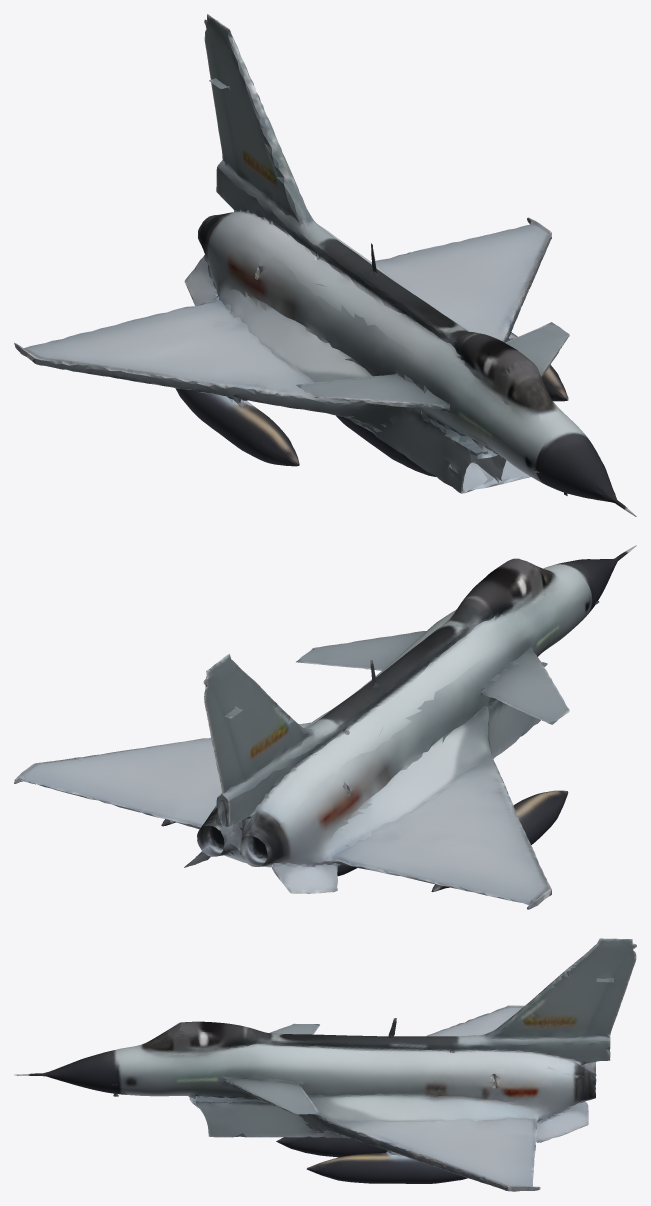
Rendered from J-10C_Vigorous_Dragon_AI_Rodin.glb.
3 renders of one model, top to bottom at view 1: azimuth 30°, elevation 25°; view 2: azimuth 150°, elevation 25°; view 3: azimuth 270°, elevation 25°, orthographic. The views are drawn at different scales.
Visible parts, largest first — view 1: model; view 2: model; view 3: model.
Boxes of the visible parts, left/top/right/bottom form: model: left=14, top=14, right=636, bottom=516; model: left=14, top=545, right=636, bottom=909; model: left=14, top=938, right=636, bottom=1191.
Bounding box in the file's own units: 1.31 × 0.7351 × 1.9.
Materials: 1 (1 with a texture image).
